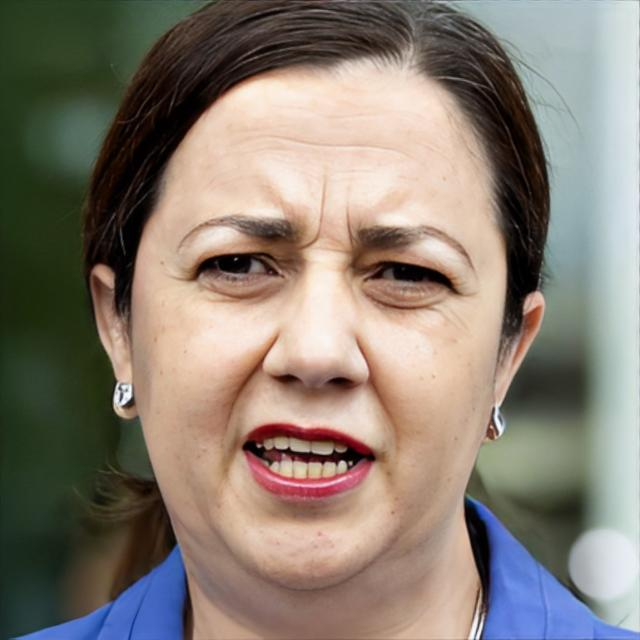disgust: (128, 58, 506, 592)
